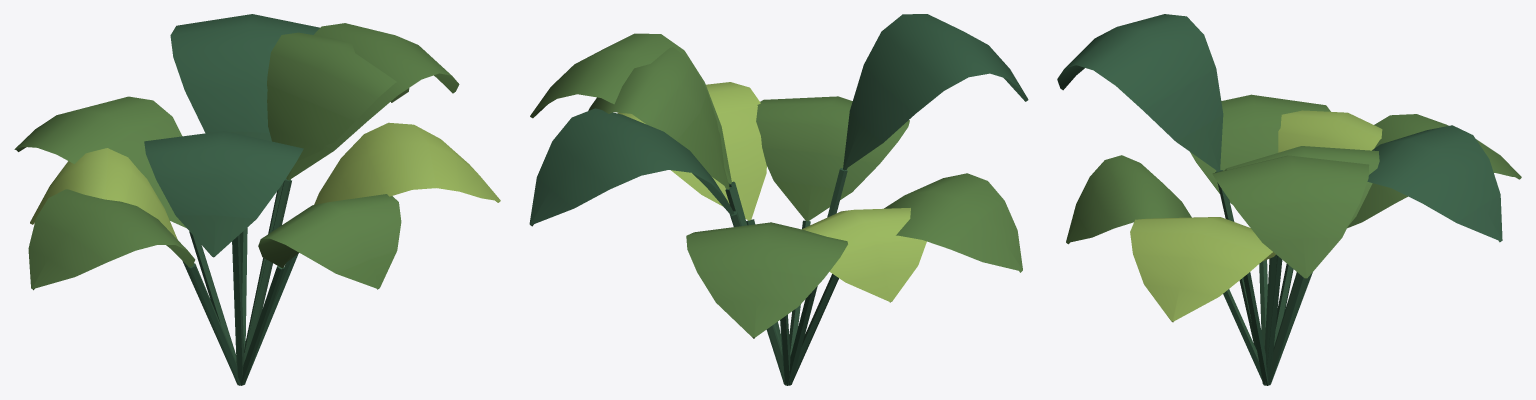
The model's file is foliage_coastal_paddle_a.glb.
The picture shows the model from 3 angles, left to right: view 1: azimuth 30°, elevation 25°; view 2: azimuth 150°, elevation 25°; view 3: azimuth 270°, elevation 25°; orthographic projection. The views are drawn at different scales.
Visible parts, largest first — view 1: foliage_coastal_paddle_a_LOD0; view 2: foliage_coastal_paddle_a_LOD0; view 3: foliage_coastal_paddle_a_LOD0.
Boxes of the visible parts, x1,y1,x2,y2 form: foliage_coastal_paddle_a_LOD0: [14, 14, 500, 385]; foliage_coastal_paddle_a_LOD0: [529, 14, 1028, 385]; foliage_coastal_paddle_a_LOD0: [1057, 14, 1521, 385].
Size of what is drawn, in the model's own units: 2.22 by 1.49 by 1.99.
